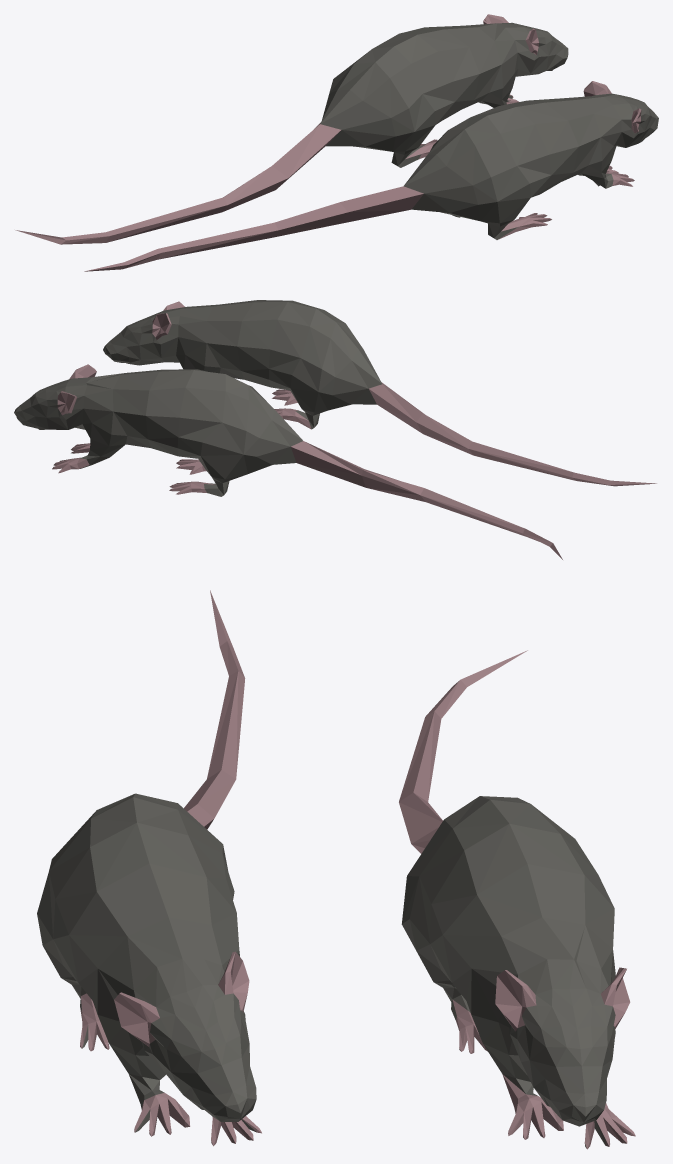
File: Rats.fbx
3 views of the same model, one above another, from view 1: azimuth 30°, elevation 25°; view 2: azimuth 150°, elevation 25°; view 3: azimuth 270°, elevation 25° (orthographic). The views are drawn at different scales.
Visible parts, largest first — view 1: grp1, grp1.001; view 2: grp1.001, grp1; view 3: grp1.001, grp1.
Part boxes in pixels (x1,y1,x2,y2): grp1: (84,81,658,271); grp1.001: (15,14,568,244); grp1.001: (14,364,562,559); grp1: (103,300,656,486); grp1.001: (399,650,635,1149); grp1: (37,590,261,1146).
Bounding box in the file's own units: 139 × 26.32 × 65.34.
